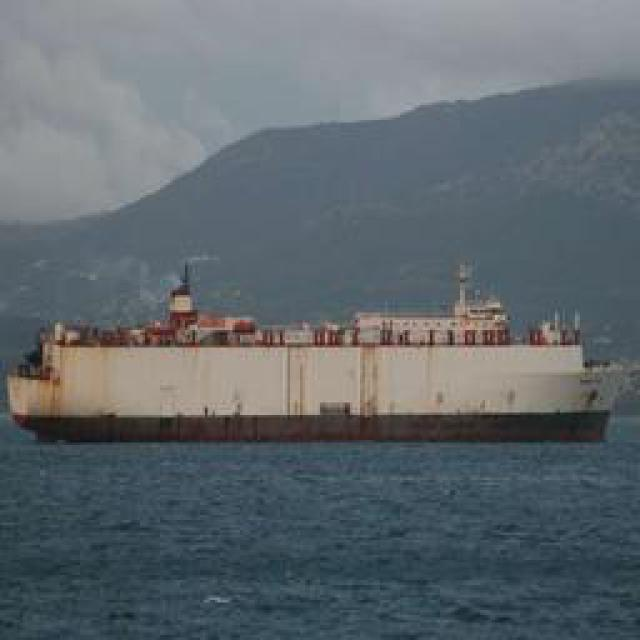Ship: (10, 285, 625, 450)
